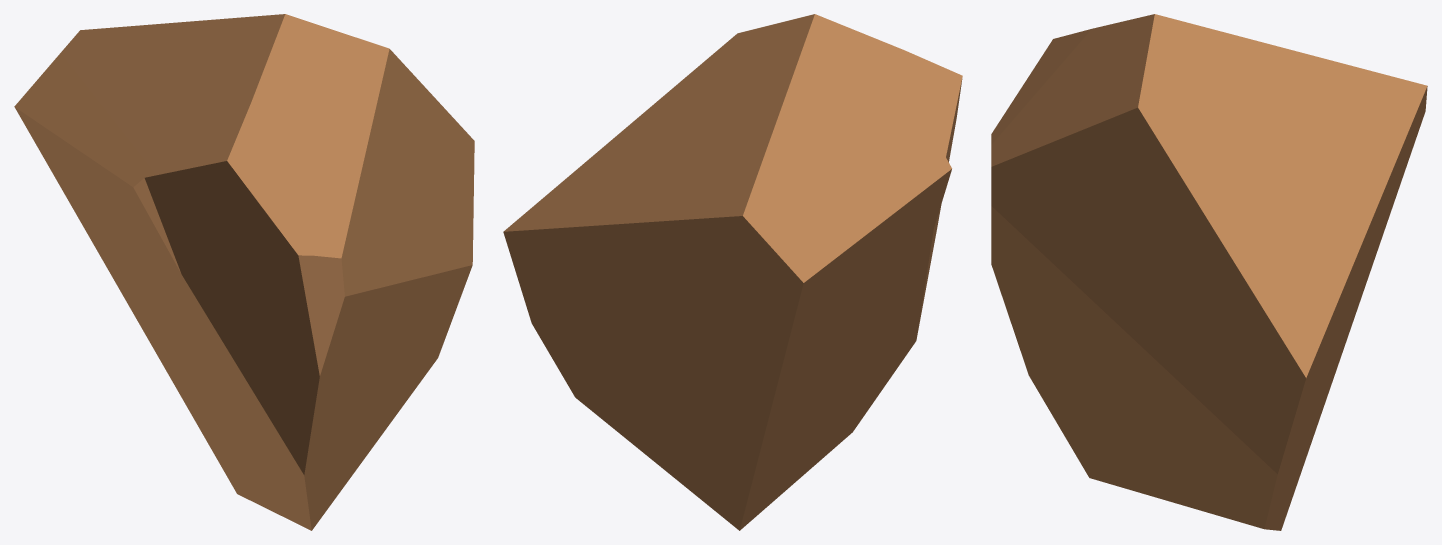
Rendered from asteroid_4_2.glb.
The picture shows the model from 3 angles, left to right: view 1: azimuth 30°, elevation 25°; view 2: azimuth 150°, elevation 25°; view 3: azimuth 270°, elevation 25°; orthographic projection. The views are drawn at different scales.
Parts seen in each view (by area): view 1: Asteriod_cell_4_2; view 2: Asteriod_cell_4_2; view 3: Asteriod_cell_4_2.
Boxes of the visible parts, box(x1,y1,x2,y2) form: Asteriod_cell_4_2: box(14, 14, 474, 530); Asteriod_cell_4_2: box(503, 14, 962, 530); Asteriod_cell_4_2: box(991, 14, 1427, 530).
Bounding box in the file's own units: 0.9366 × 1.13 × 0.8799.
